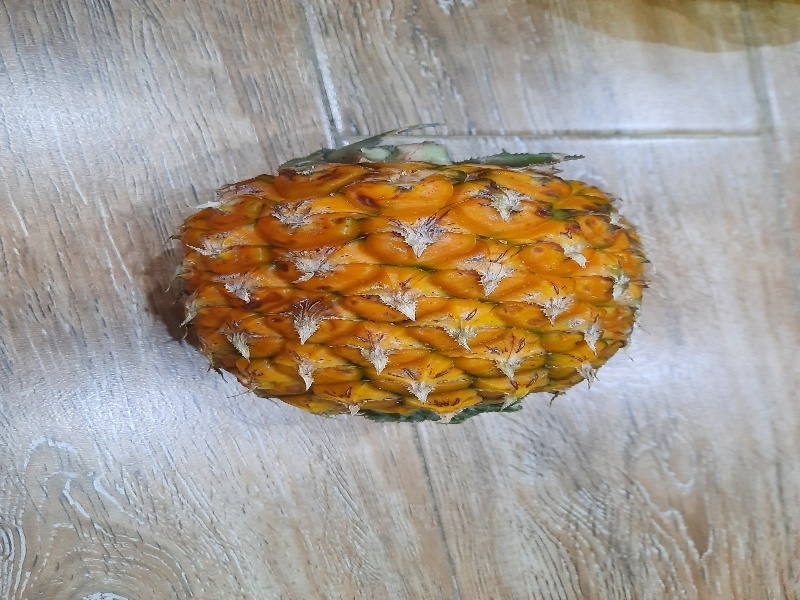fruit: (166, 132, 653, 422)
